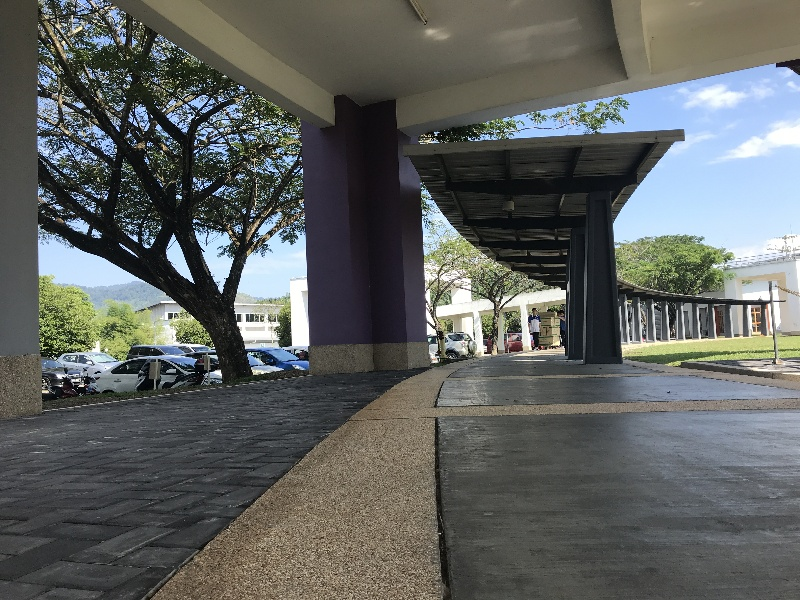Block D corridor: (10, 3, 799, 593)
pillar: (283, 94, 435, 382), (1, 15, 73, 432), (548, 199, 627, 363)
